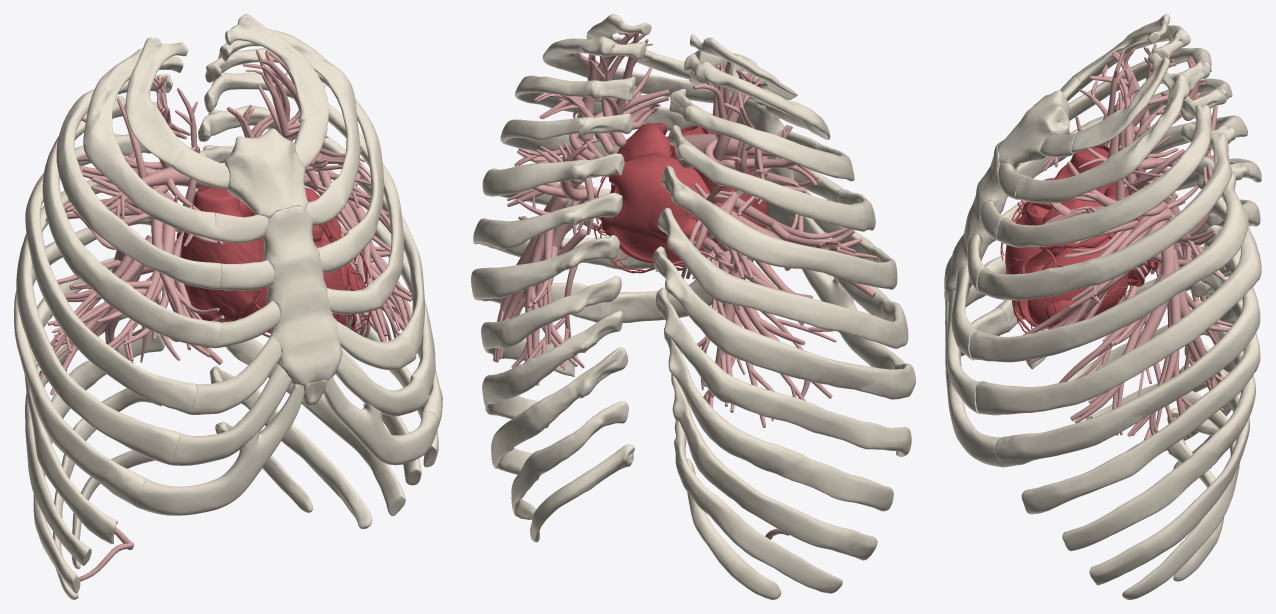
Rendered from reference.glb.
3 views of the same model, side by side, from view 1: azimuth 30°, elevation 25°; view 2: azimuth 150°, elevation 25°; view 3: azimuth 270°, elevation 25° (orthographic). The views are drawn at different scales.
Parts seen in each view (by area): view 1: FMA7480, FMA7309, FMA7310, FMA7088; view 2: FMA7480, FMA7309, FMA7310, FMA7088; view 3: FMA7480, FMA7310, FMA7088, FMA7309.
Boxes of the visible parts, box(x1,y1,x2,y2) form: FMA7480: box(14, 14, 442, 599); FMA7309: box(39, 75, 224, 581); FMA7310: box(226, 49, 412, 341); FMA7088: box(176, 186, 370, 337); FMA7480: box(471, 14, 915, 599); FMA7309: box(675, 61, 876, 539); FMA7310: box(493, 32, 669, 385); FMA7088: box(594, 123, 767, 279); FMA7480: box(944, 14, 1261, 599); FMA7310: box(1023, 74, 1233, 439); FMA7088: box(1000, 144, 1160, 332); FMA7309: box(1016, 44, 1235, 439).
Bounding box in the file's own units: 0.2729 × 0.3624 × 0.2102.
